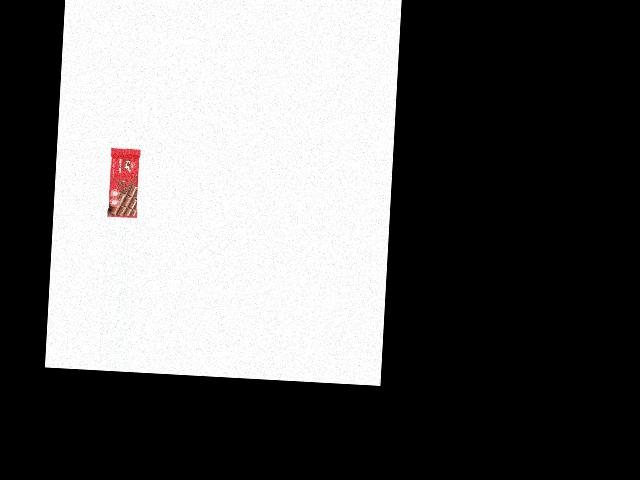chocolate: (106, 146, 140, 218)
